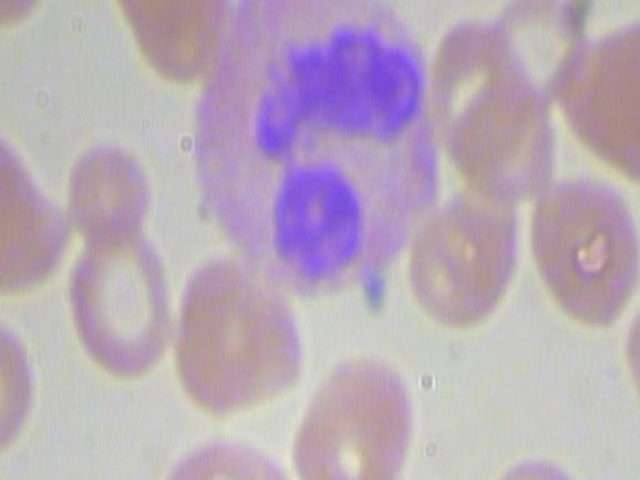RBC: (163, 252, 307, 417), (524, 154, 640, 331), (403, 175, 520, 333), (66, 222, 177, 382), (287, 361, 419, 480), (63, 133, 152, 245), (156, 423, 299, 480), (0, 303, 34, 461), (0, 0, 58, 44)
WBC: (182, 0, 440, 299)
